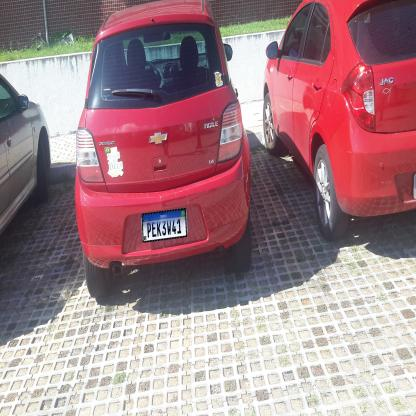PlacaM: (142, 208, 187, 243)
